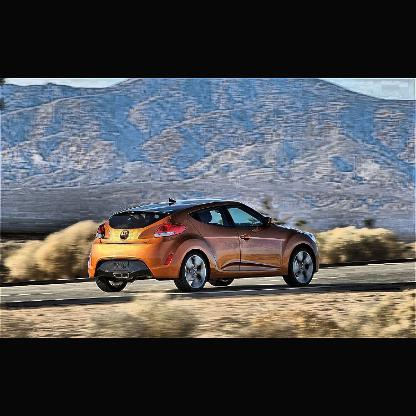Hyundai Veloster Hatchback 2012: (78, 192, 328, 296)
